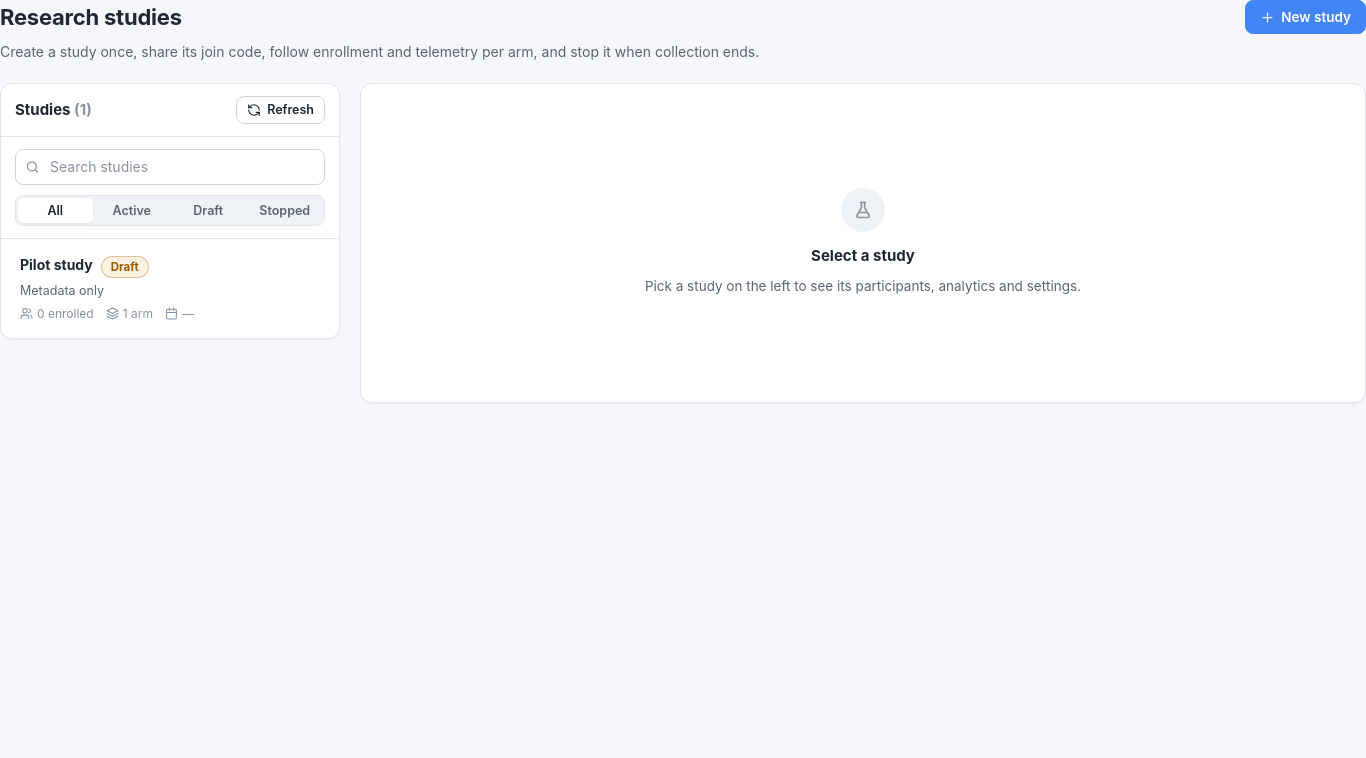
Scenario: a custom range must not end before it starts
Click the text "Pilot study" at [56, 265], box [20, 256, 93, 275]
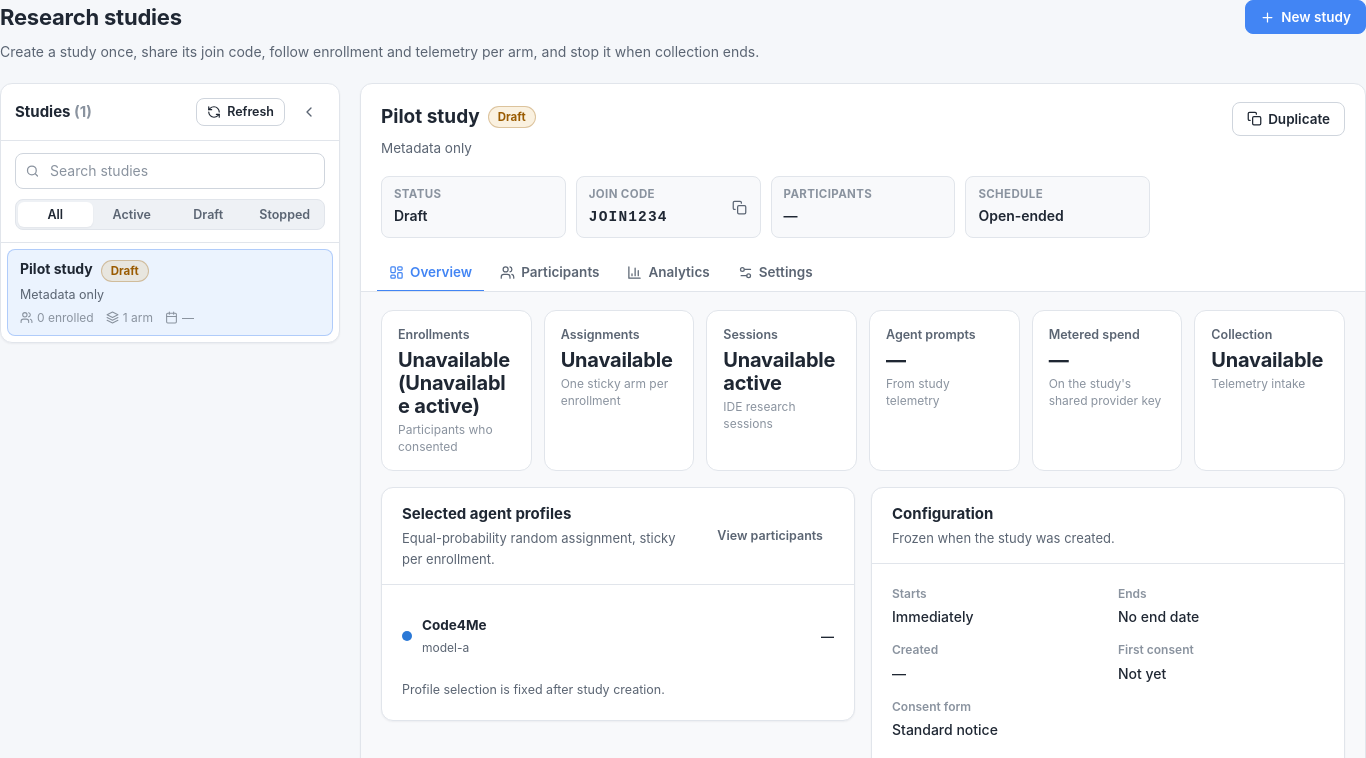
Click the tab "Analytics" at [669, 273], box [616, 254, 722, 292]
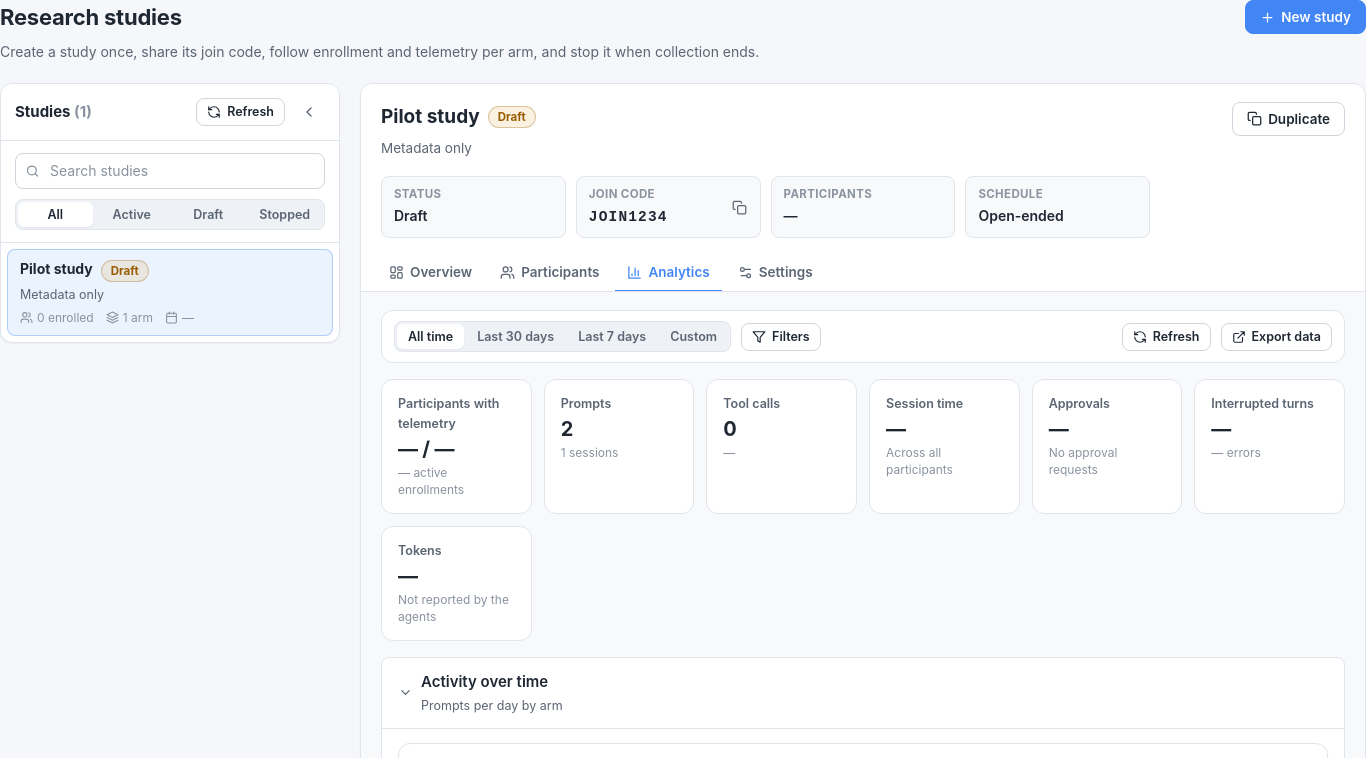
Click the button "Custom" at [694, 337], box [659, 324, 728, 349]
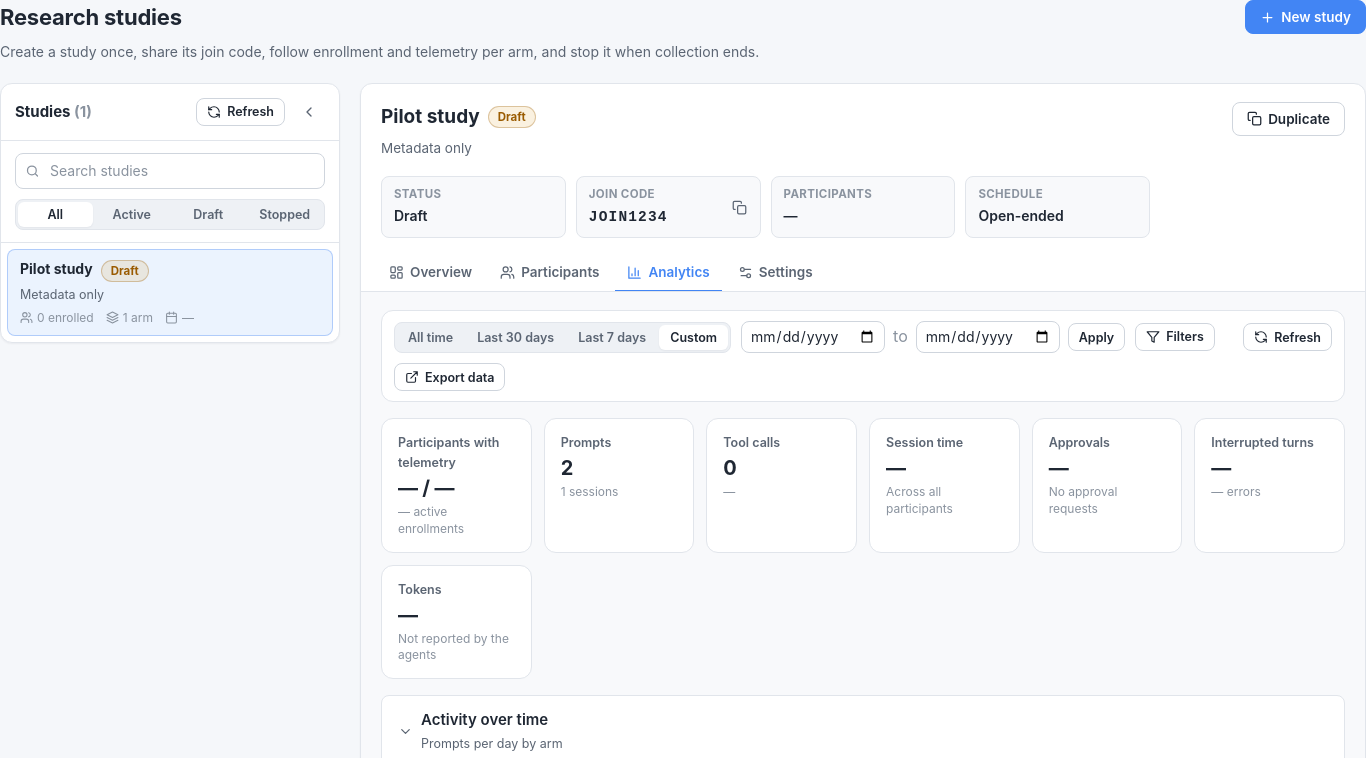
Type "2026-09-20" into the date field named "From date" at [813, 337], box [741, 321, 885, 353]
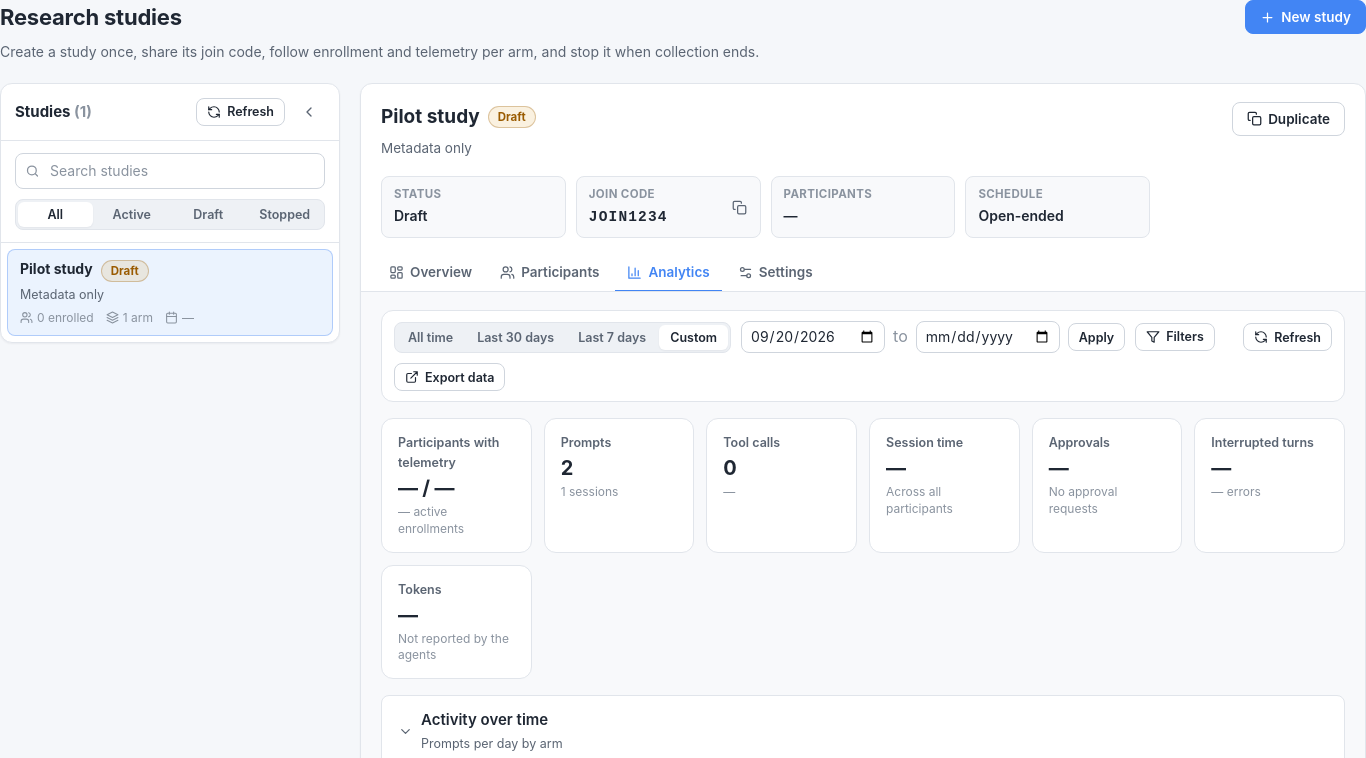
Type "2026-09-10" into the date field named "To date" at [988, 337], box [916, 321, 1060, 353]
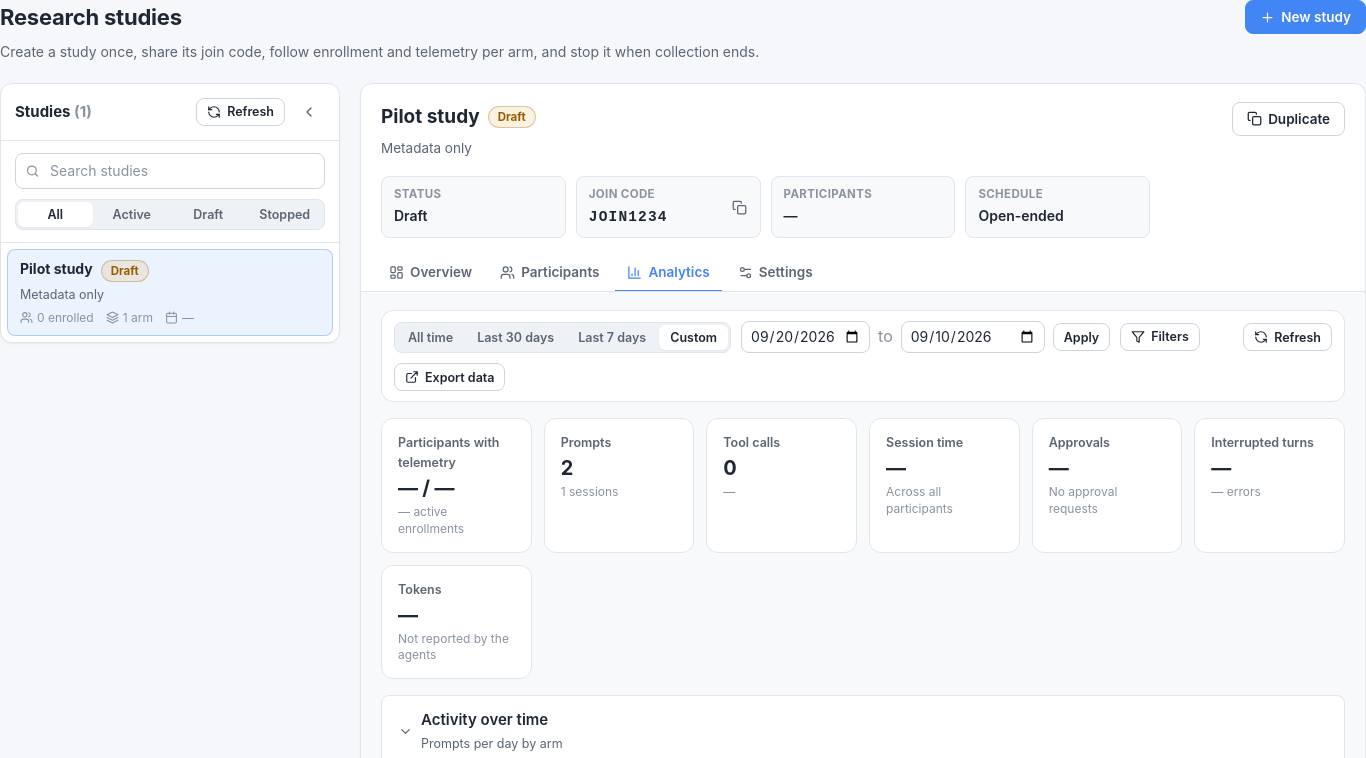
Click the button "Apply" at [1081, 337], box [1053, 323, 1110, 351]
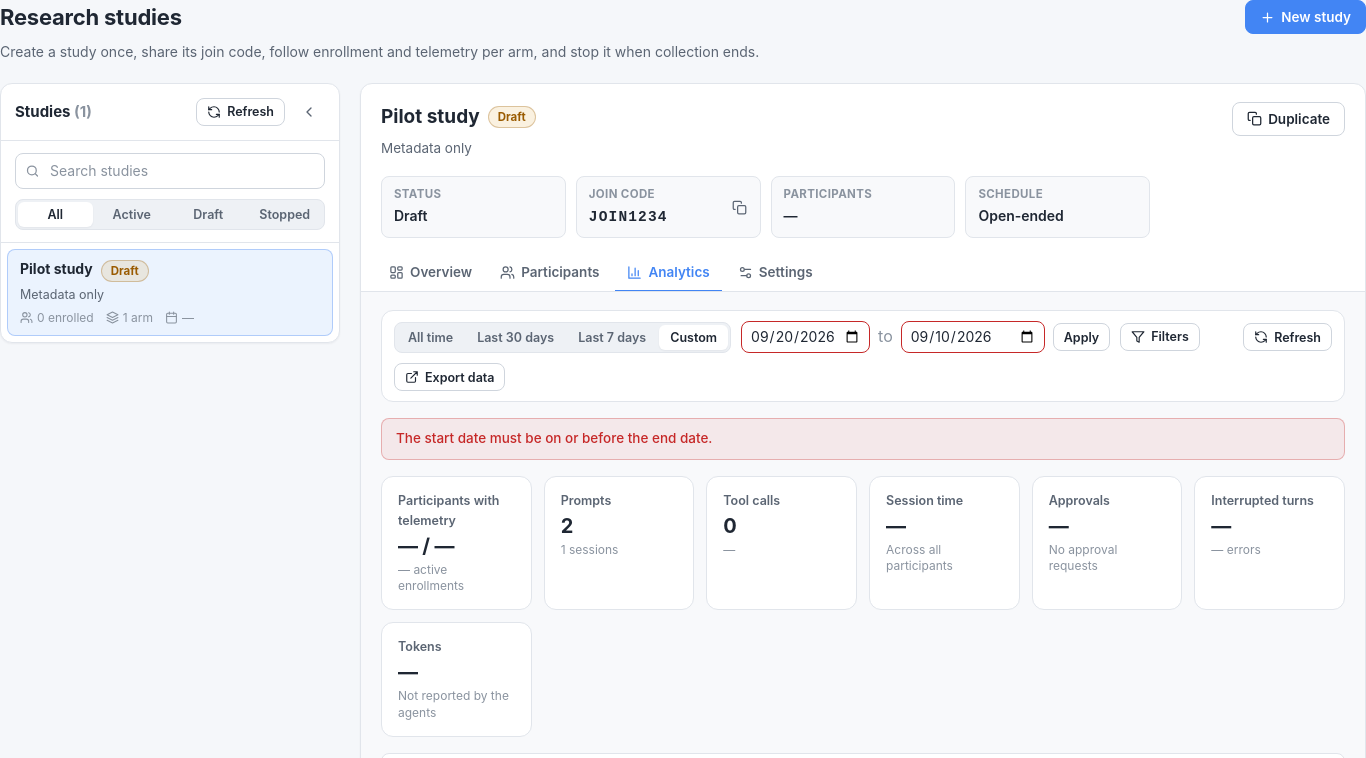
Result: the text "The start date must be on or before the end date." is shown at [381, 418, 1345, 460]
